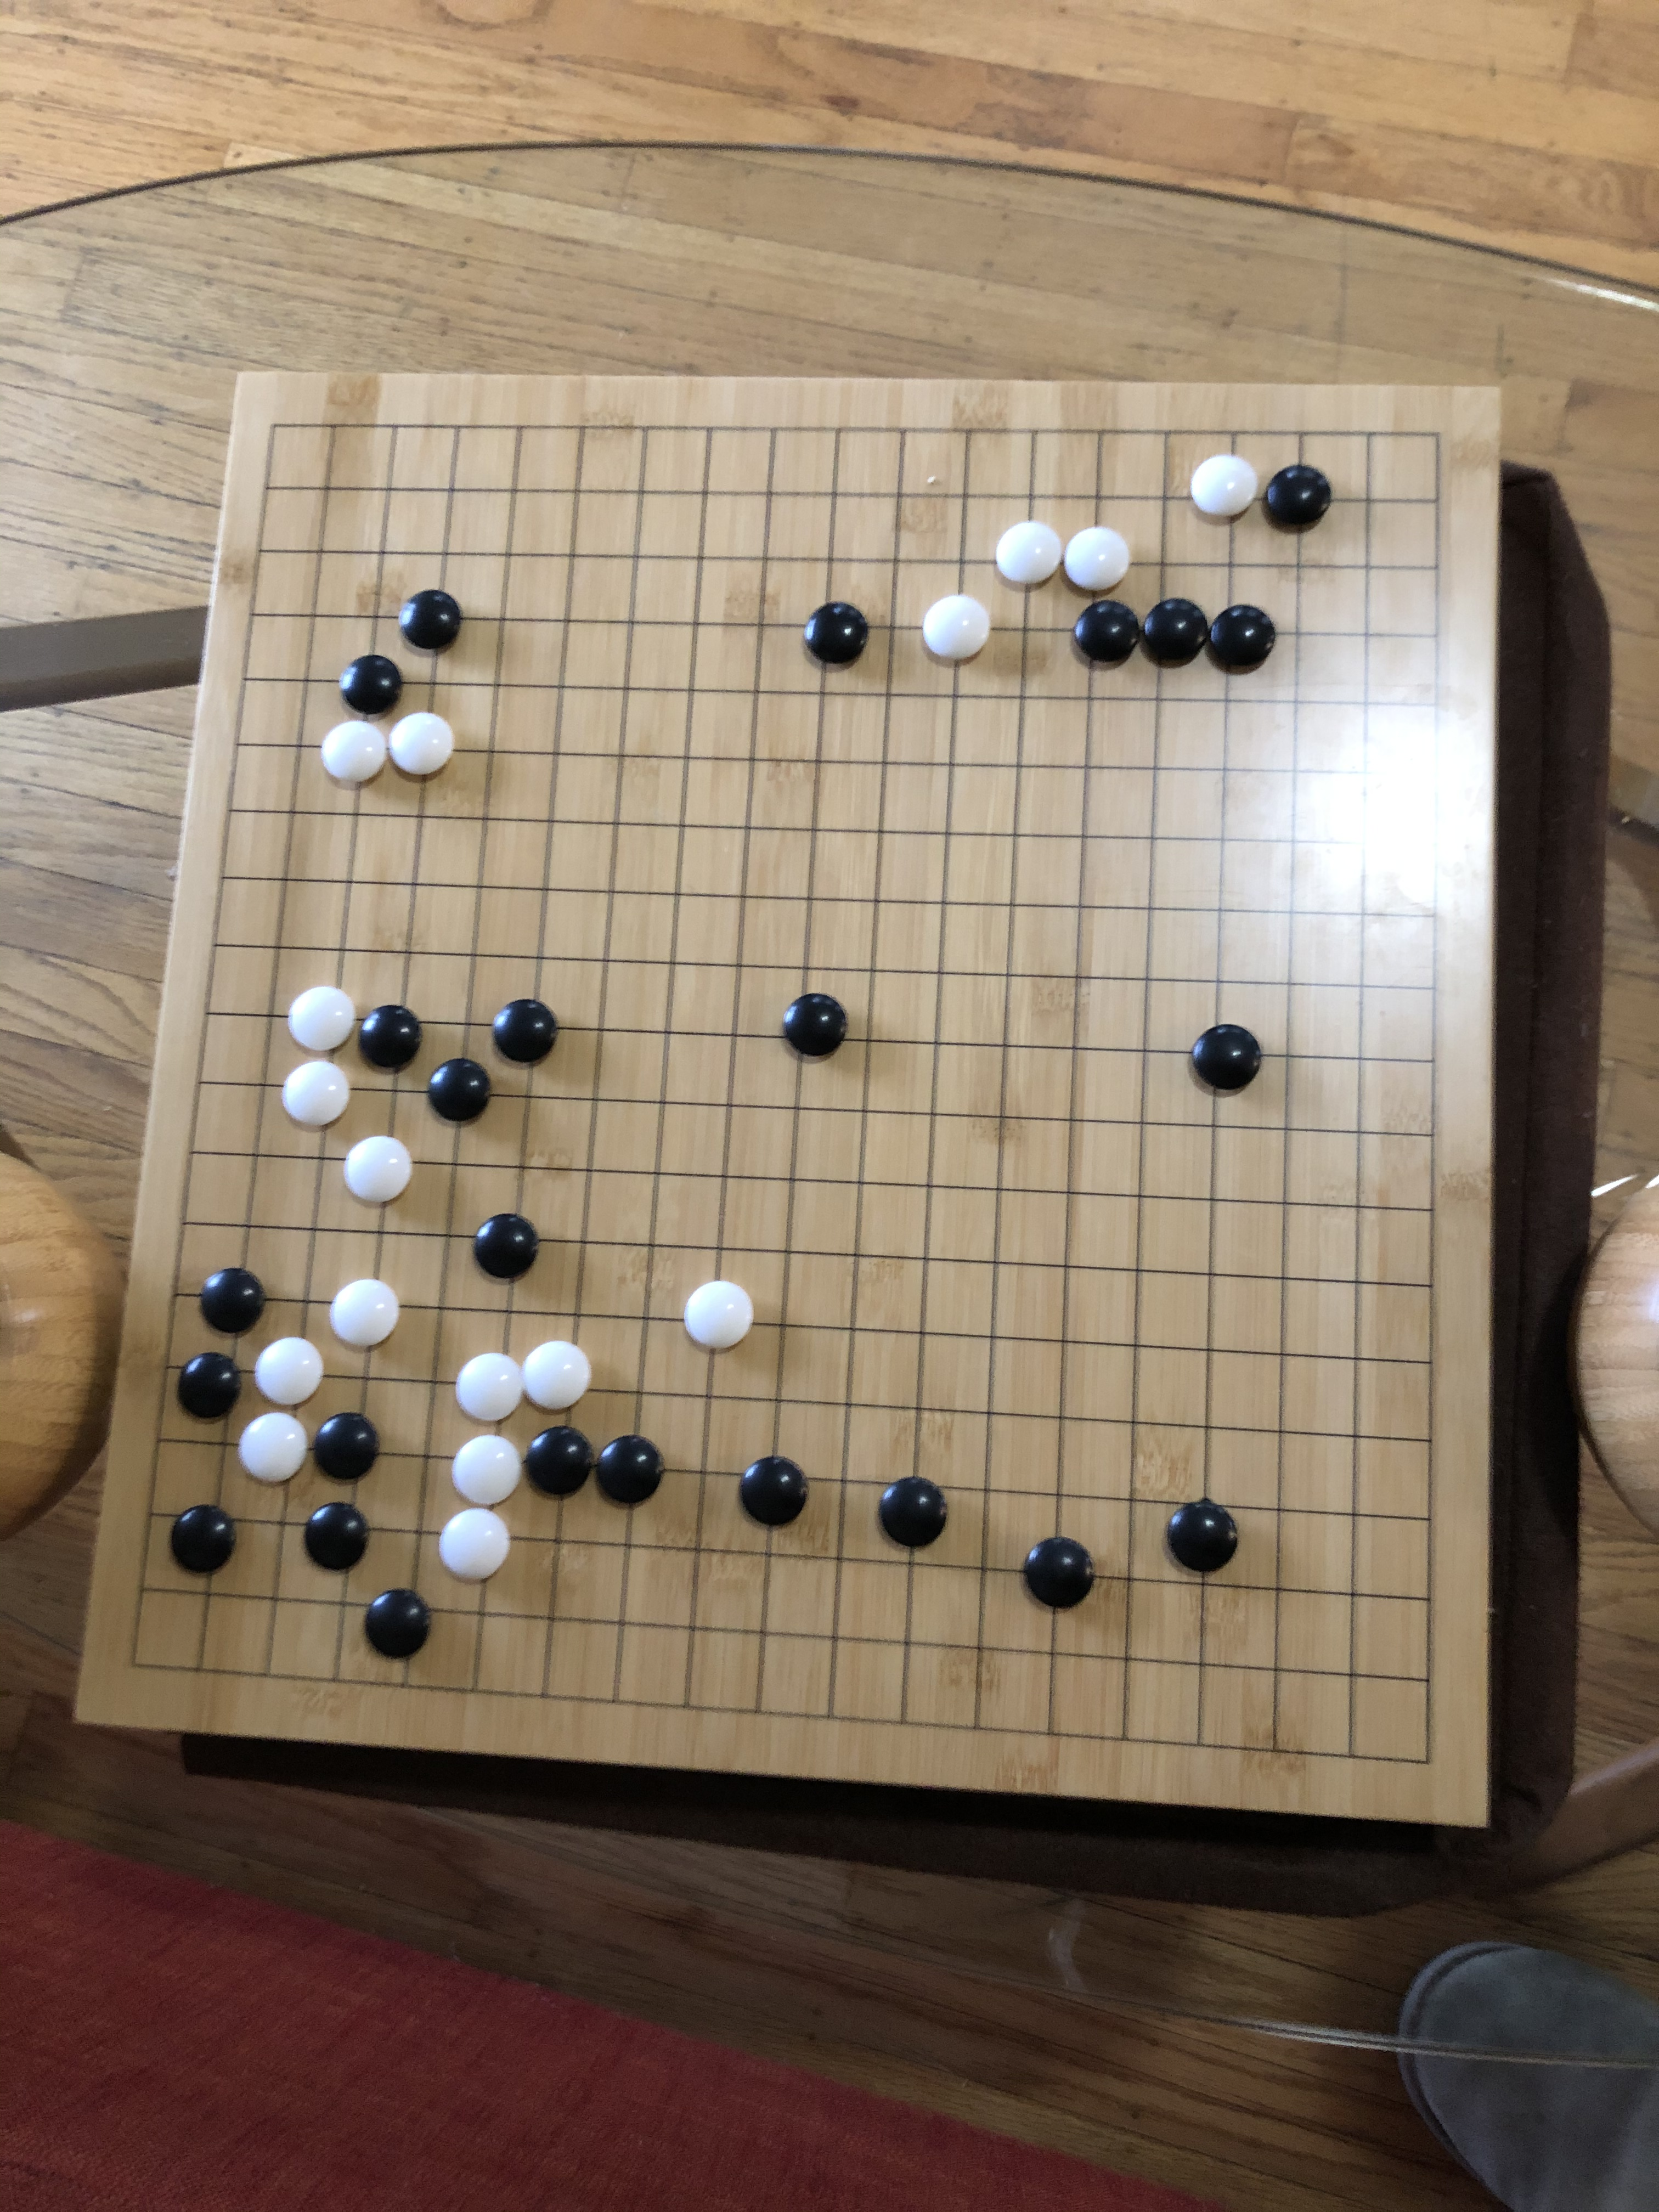stone_1: (1164, 1498, 1239, 1576), (1021, 1534, 1096, 1613), (737, 1454, 810, 1531), (362, 1587, 436, 1663), (195, 1264, 268, 1341), (878, 1474, 950, 1550), (594, 1432, 666, 1508), (301, 1500, 373, 1576), (169, 1501, 235, 1580), (312, 1409, 378, 1486), (1190, 1024, 1262, 1094), (1141, 596, 1208, 671), (526, 1425, 592, 1500), (176, 1350, 242, 1425), (1072, 597, 1141, 667), (1262, 463, 1333, 531), (1209, 603, 1277, 672), (491, 996, 559, 1066), (425, 1057, 493, 1125), (782, 991, 847, 1061), (474, 1212, 538, 1282), (359, 1005, 422, 1073), (397, 589, 462, 653), (338, 653, 404, 716), (803, 603, 870, 665)
stone_2: (444, 1430, 523, 1508), (680, 1278, 756, 1357), (450, 1350, 526, 1428), (251, 1332, 326, 1409), (237, 1409, 308, 1489), (279, 1061, 354, 1136), (326, 1277, 403, 1350), (521, 1338, 591, 1416), (439, 1510, 511, 1585), (343, 1132, 413, 1209), (284, 984, 356, 1057), (918, 590, 993, 660), (1063, 524, 1131, 592), (1190, 453, 1256, 523), (995, 519, 1061, 589), (385, 712, 455, 779), (321, 719, 385, 786)
